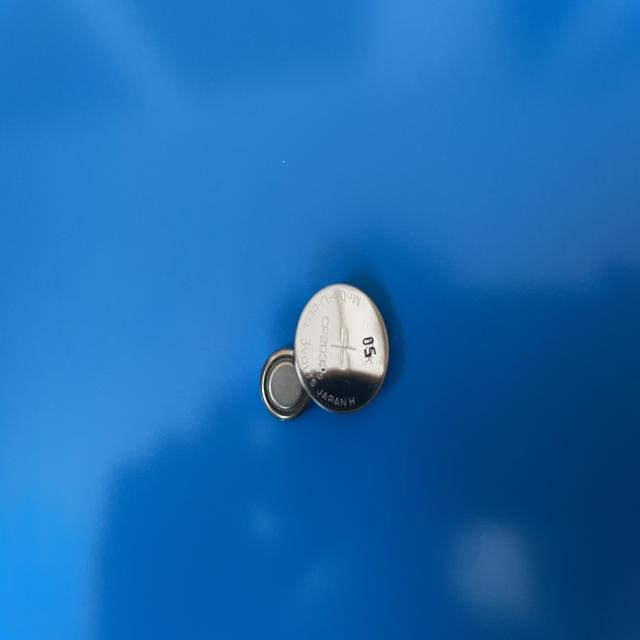COIN: (290, 282, 390, 415), (258, 346, 314, 423)
